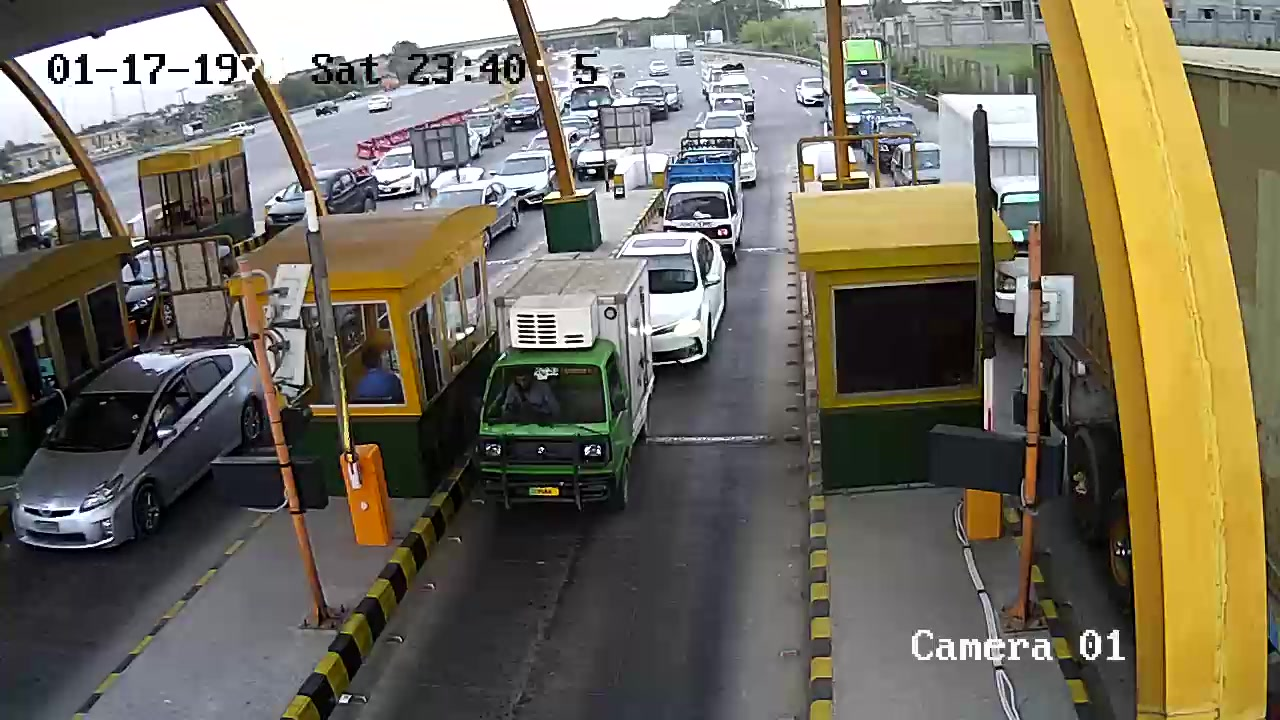F1: (466, 247, 660, 529)
